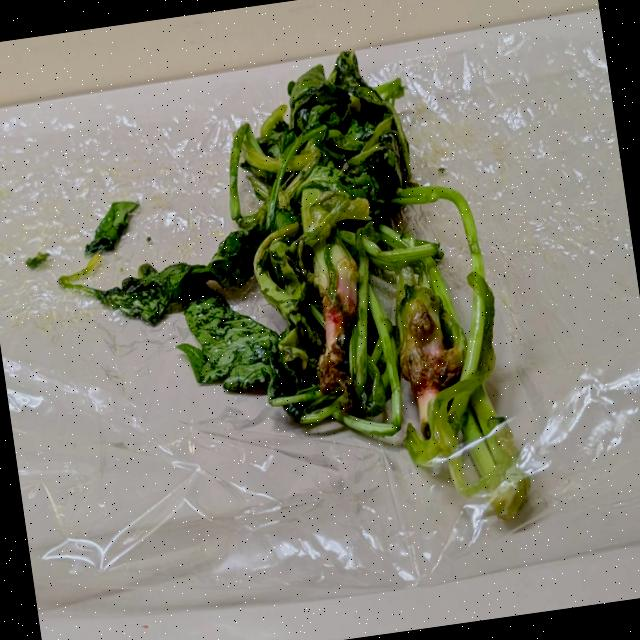rotten spinach: (0, 32, 575, 586), (12, 46, 486, 288), (11, 118, 316, 450), (315, 104, 537, 534), (259, 150, 421, 428)
